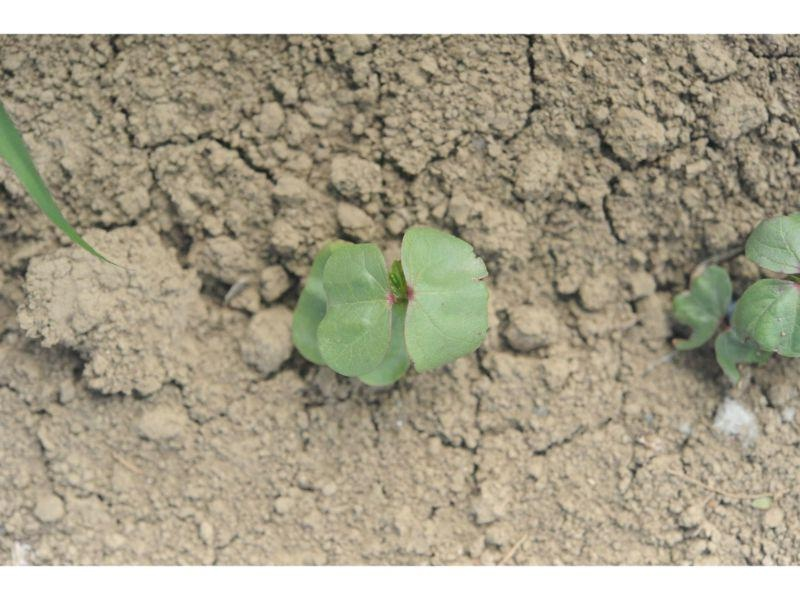cotton: (289, 224, 490, 389), (670, 214, 798, 381)
